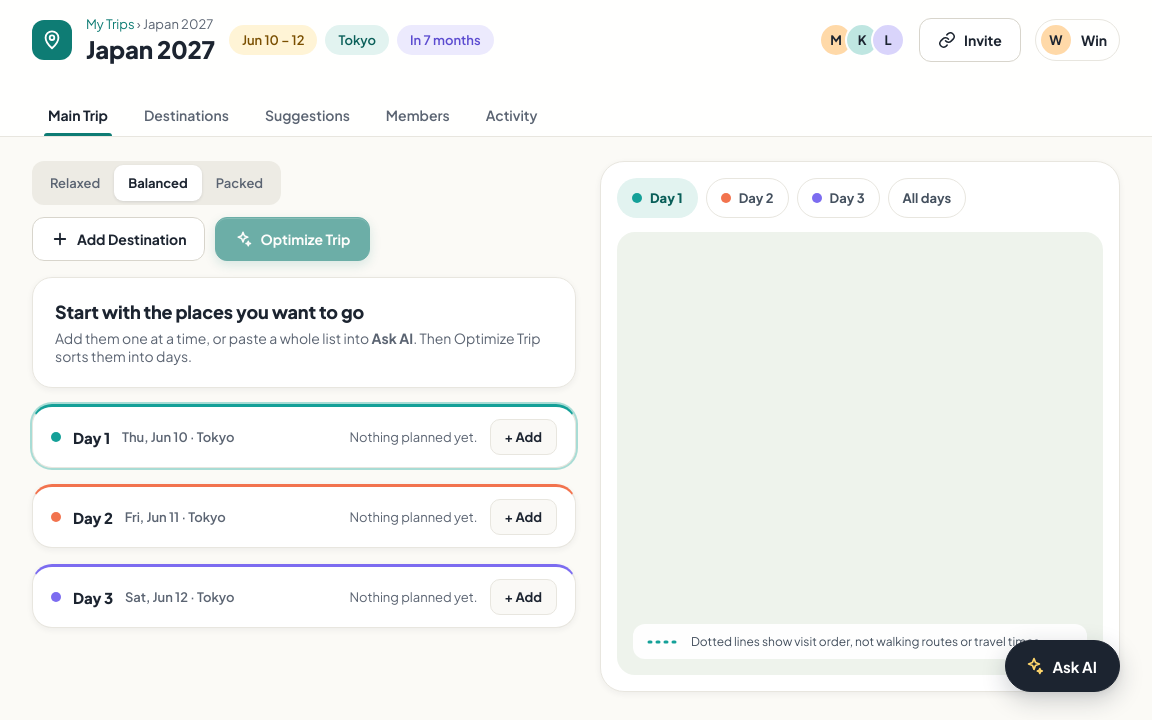
streams an answer and adds proposed places after confirmation
The width and height of the screenshot is (1152, 720).
Click the button "Ask AI".
click(1063, 666)  # box [1005,640,1120,692]
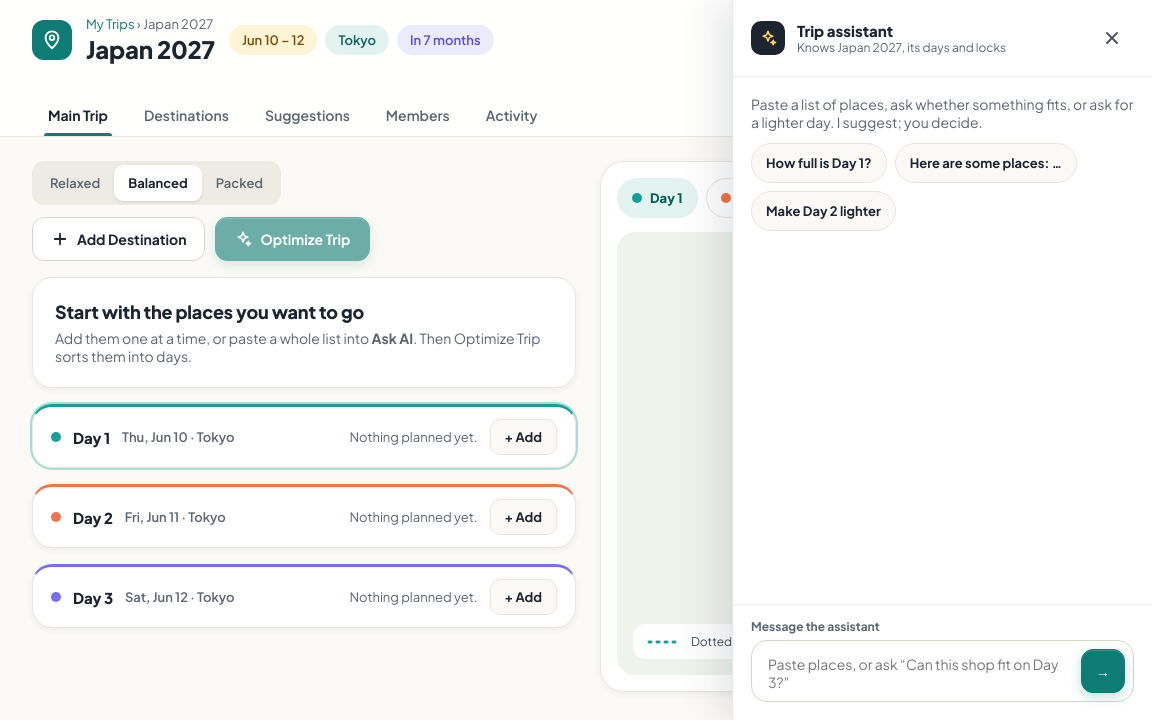
Type "Tsukiji, Tiny bar" into the text box labelled "Message the assistant".
click(918, 673); type("Tsukiji, Tiny bar")  # box [766,653,1069,693]
Then press Enter
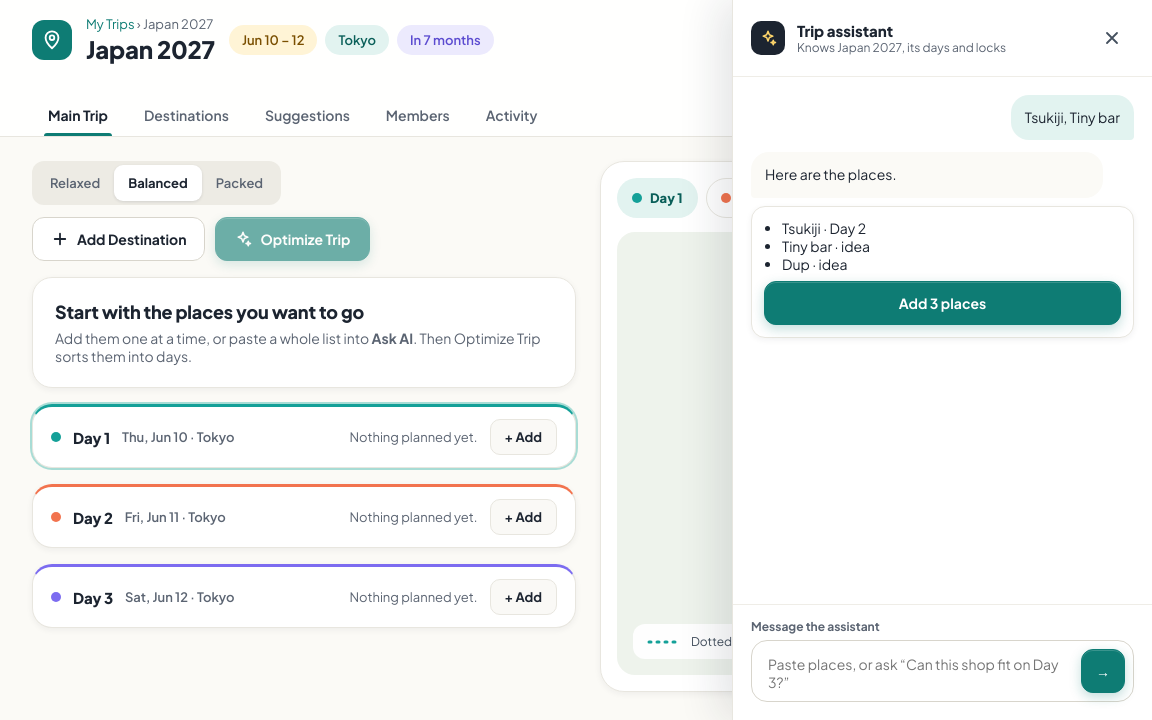
Expected: the text "Here are the places." is shown, [751,152,1103,198]
Expected: the text "Tsukiji, Tiny bar" is shown, [1011,95,1134,140]
Click the button "Add 3 places".
click(942, 303)  # box [764,281,1121,325]
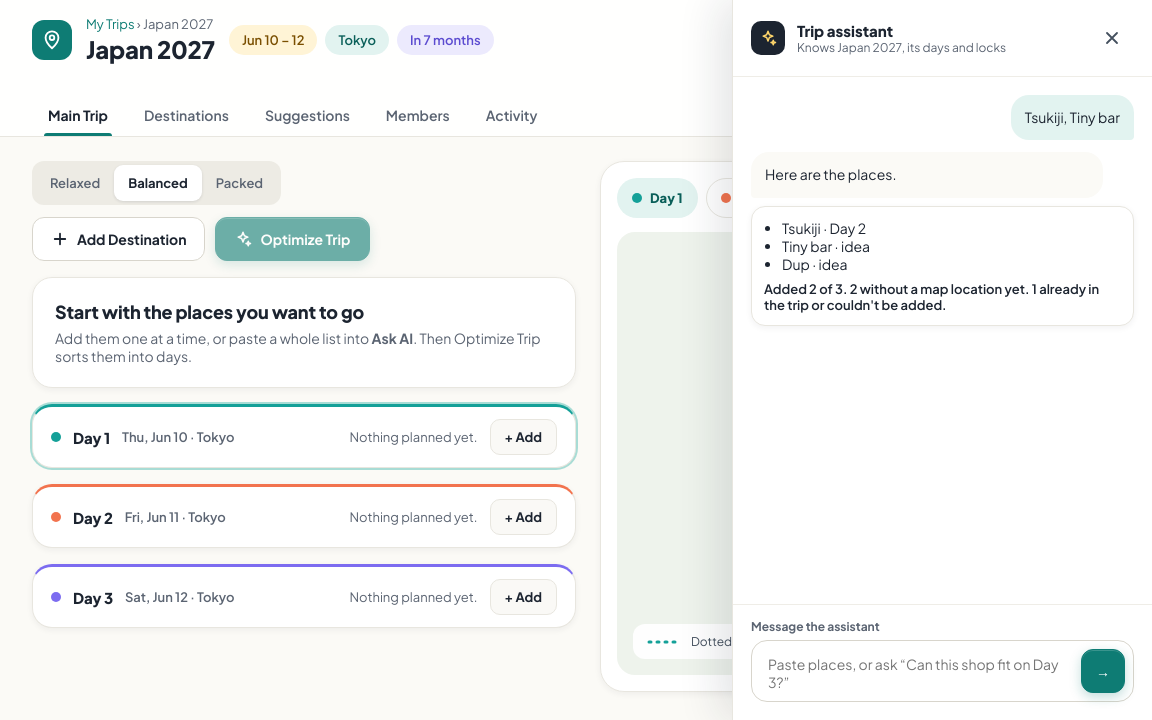
Expected: the message shows "Added 2 of 3. 2 without a map location yet. 1 already in the trip", [764,281,1099,313]
